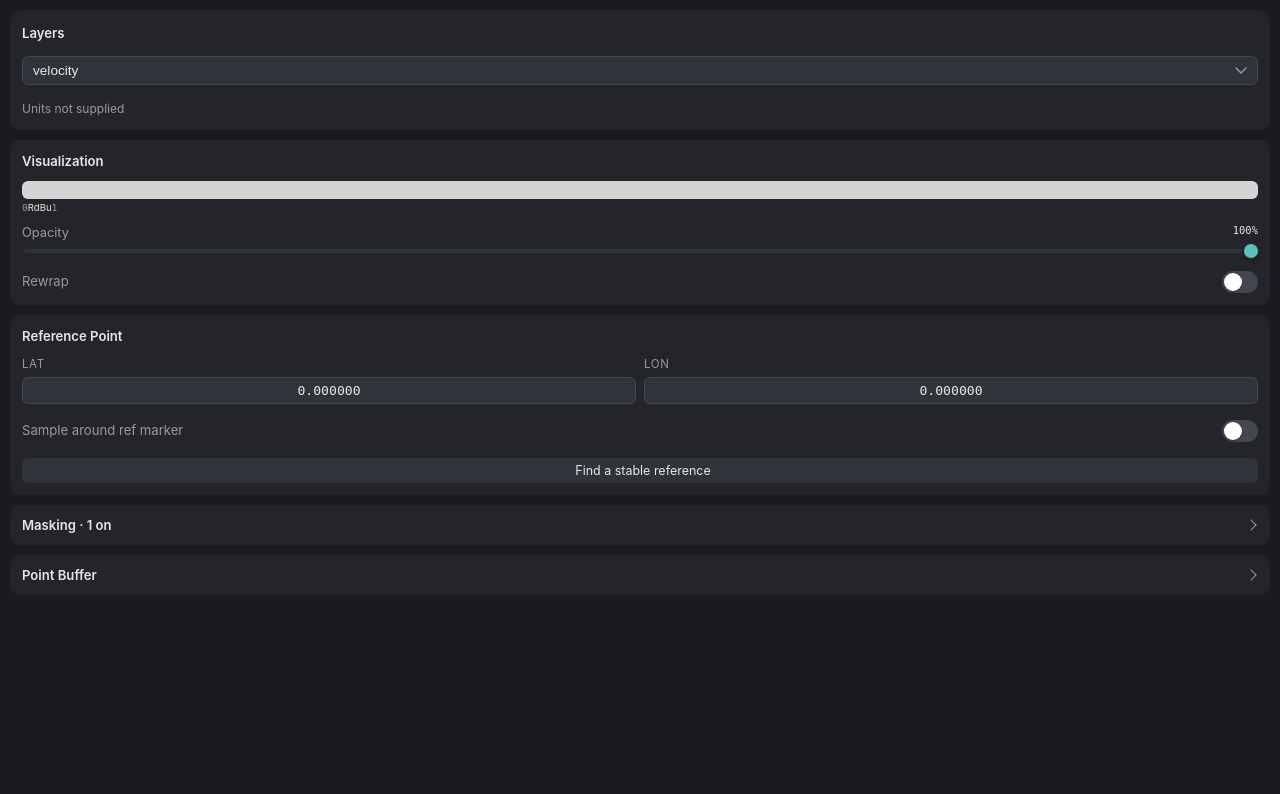
Test case: says a dated mask's dates are combined on a layer without dates, instead of one date's share
Click the button "Masking · 1 on". click: click(67, 525)
box: [22,517,1258,533]
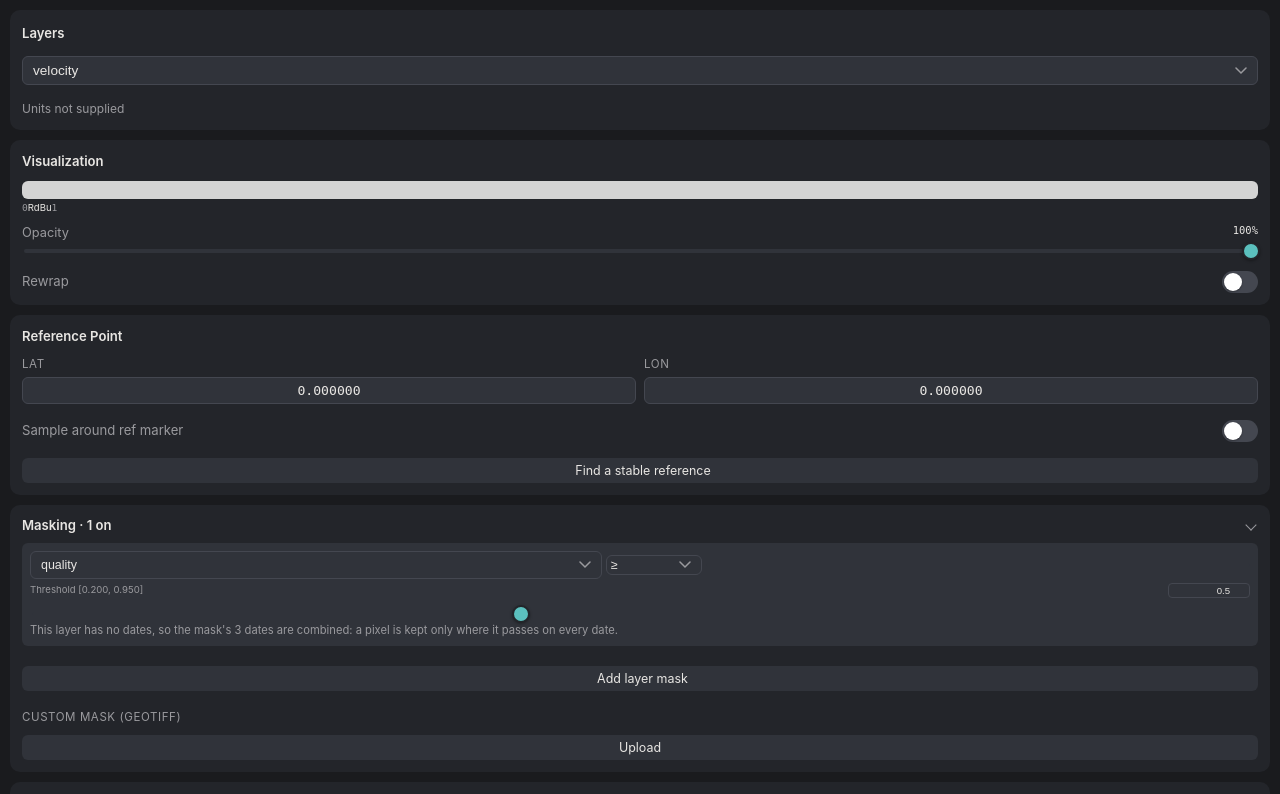
Check: the text "mask's 3 dates are combined" shows "This layer has no dates, so the mask's 3 dates are combined: a pixel is kept only where it passes on every date.", box [30,623,618,637]
